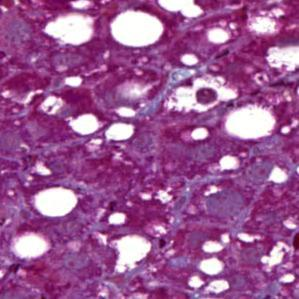steatosis: (112, 9, 168, 47), (227, 104, 282, 142), (33, 184, 85, 217)
